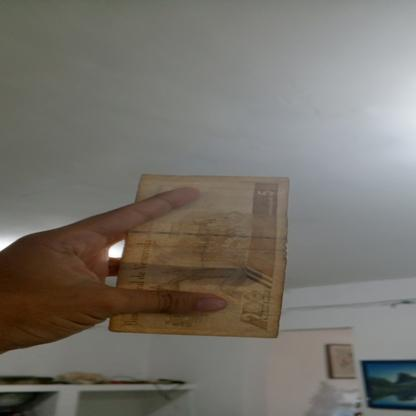five-back-vef: (108, 173, 290, 339)
